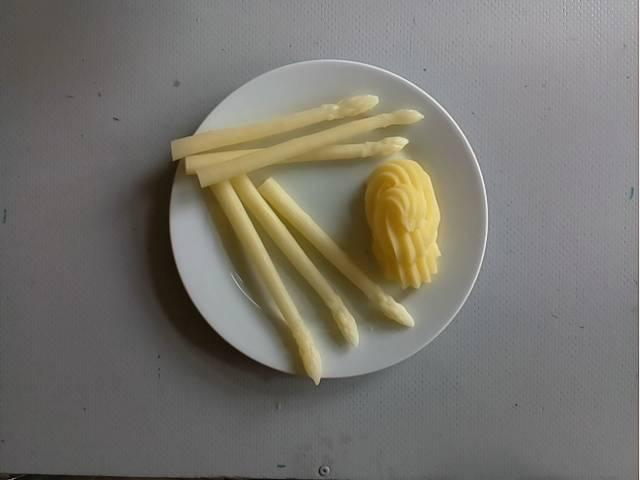Asparagus + mashed potatoes: (170, 88, 443, 366)
